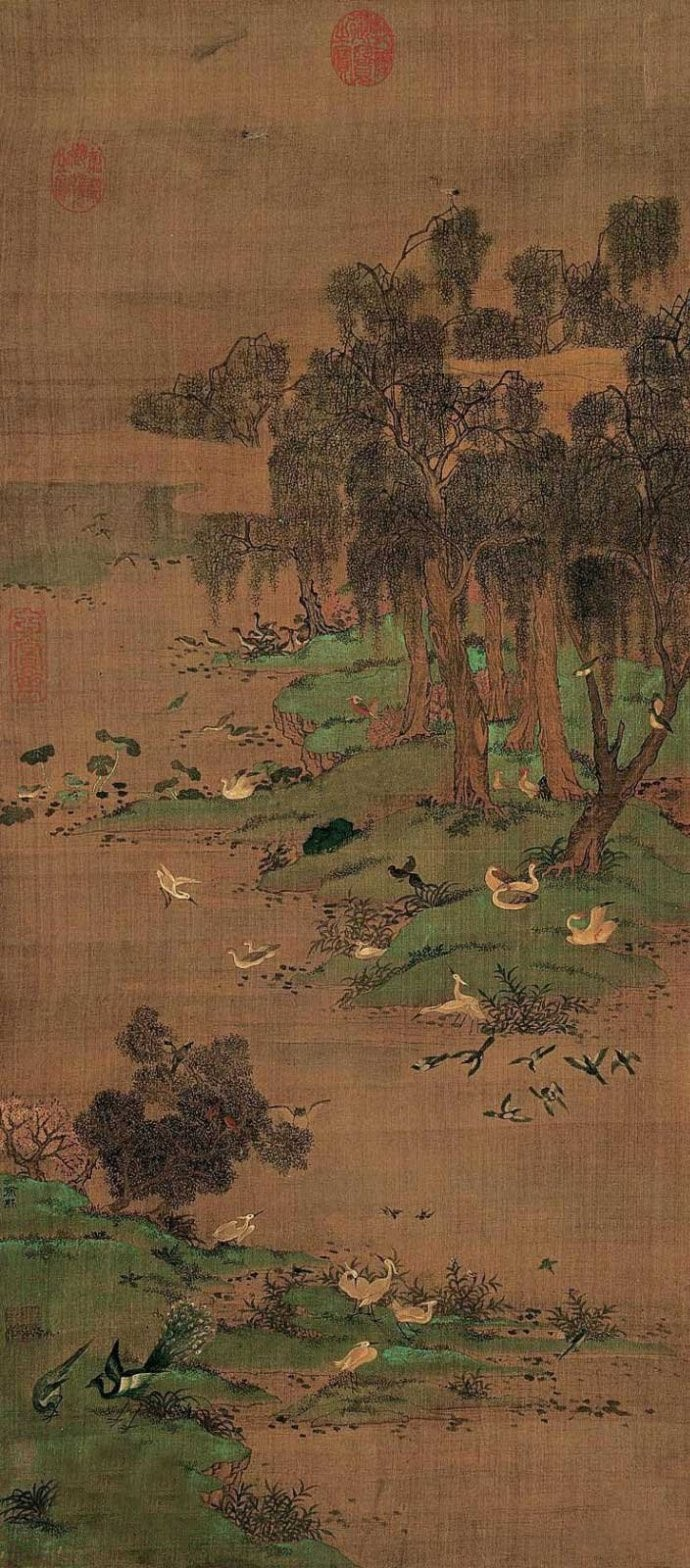crane: (399, 855, 655, 1039), (27, 1324, 168, 1427), (170, 599, 344, 680), (331, 1254, 442, 1370), (150, 858, 206, 911), (211, 760, 268, 804), (231, 934, 275, 973)
tree: (295, 313, 685, 875)
